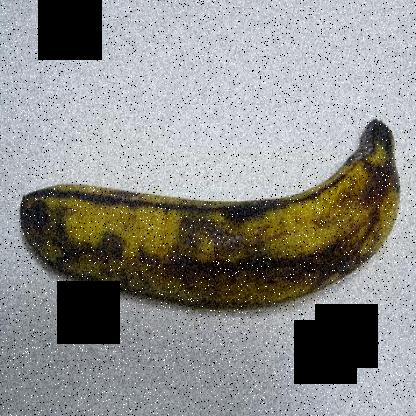overripe: (11, 100, 407, 335)
